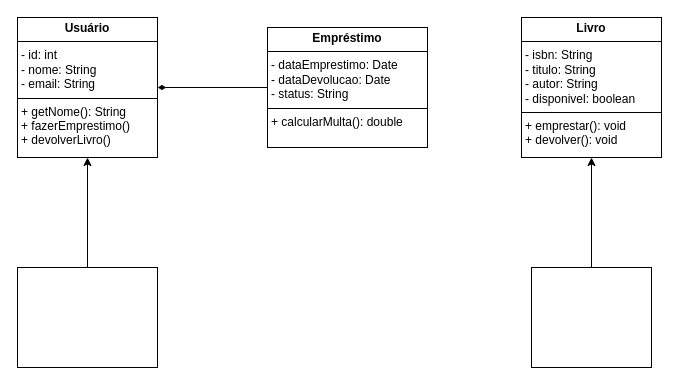
Image size: 679x385. Some labels were removed from this diagram. Here are the shapes that lost their labels. From the top down, the centre of each, then its label:
pixel 87 317: Funcionário - matricula: String - salario: double + gerenciarUsuario()
pixel 591 317: Biblioteca - nome: String + adicionarLivro() + buscarLivro()
